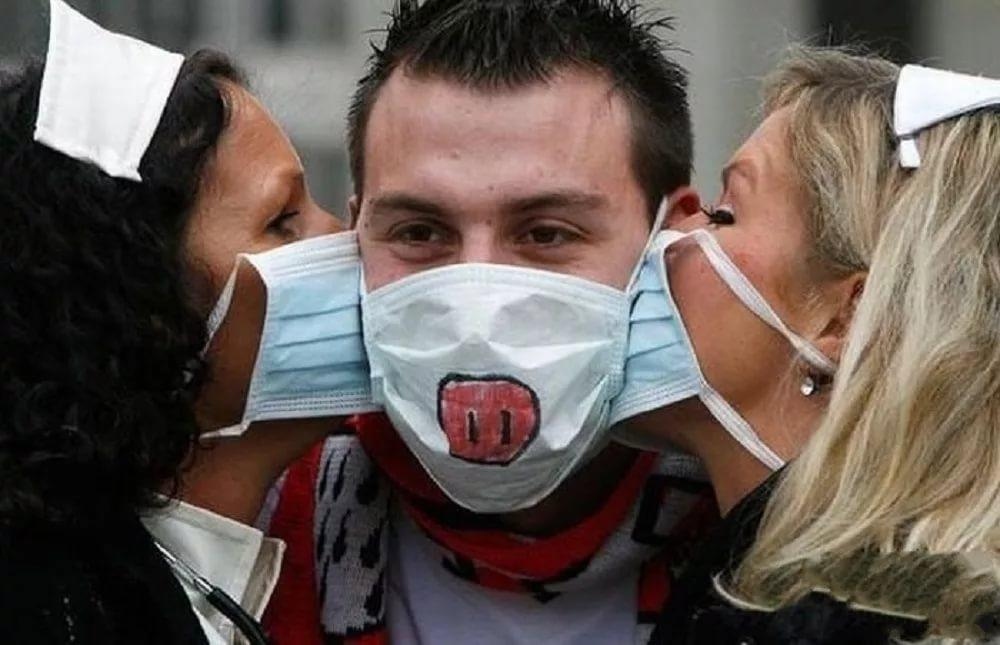mask: (358, 89, 655, 502), (166, 94, 370, 442), (609, 133, 794, 439)
